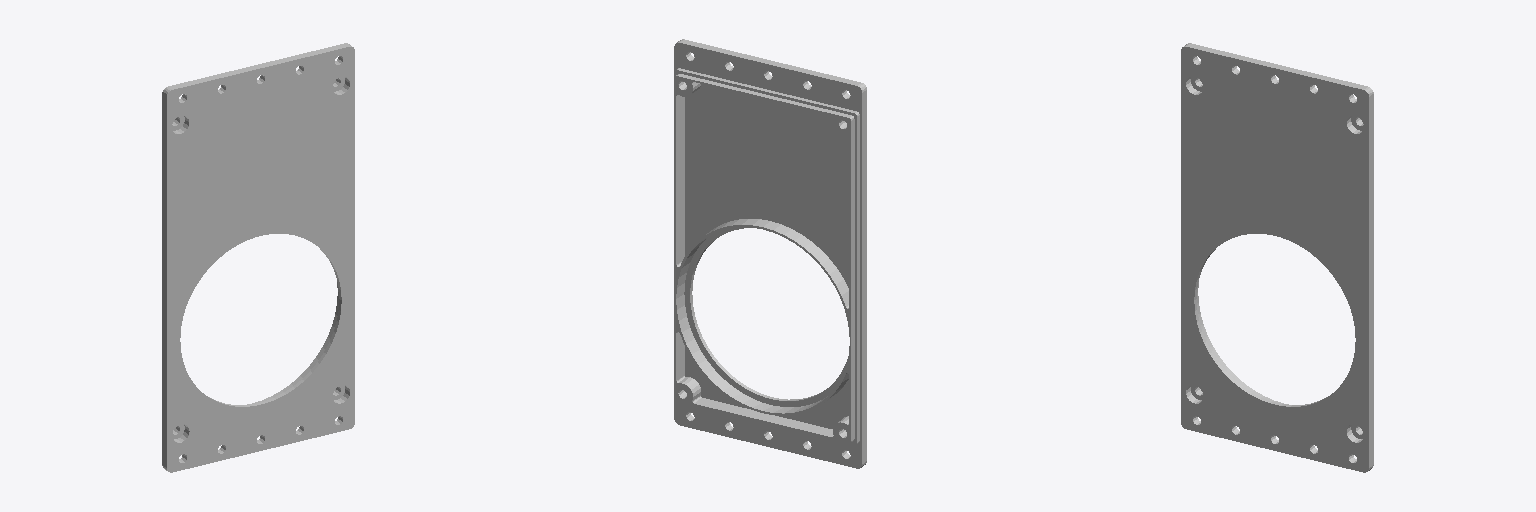
Rendered from actuatorOutput.obj.
3 views of the same model, side by side, from view 1: azimuth 30°, elevation 25°; view 2: azimuth 150°, elevation 25°; view 3: azimuth 330°, elevation 25° (orthographic).
Parts seen in each view (by area): view 1: Body1; view 2: Body1; view 3: Body1.
Part boxes in pixels (bbox=[...]): Body1: bbox=[162, 43, 354, 472]; Body1: bbox=[674, 39, 866, 468]; Body1: bbox=[1181, 43, 1373, 472].
Size of the model in its own units: 7 by 13.6 by 0.65.